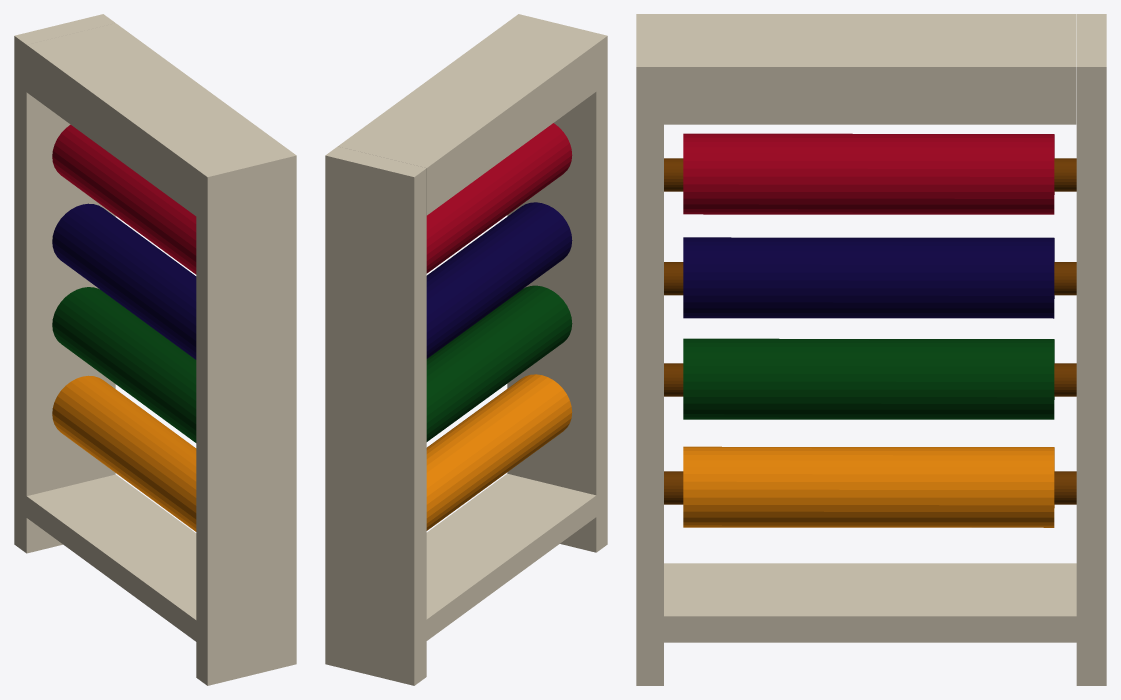
File: fabricshelf.gltf
3 renders of one model, left to right at view 1: azimuth 30°, elevation 25°; view 2: azimuth 150°, elevation 25°; view 3: azimuth 270°, elevation 25°, orthographic. The views are drawn at different scales.
Visible parts, largest first — view 1: Cube, Cylinder.005, Cylinder.010, Cylinder, Cylinder.013; view 2: Cube, Cylinder.010, Cylinder.005, Cylinder, Cylinder.013; view 3: Cube, Cylinder.010, Cylinder.013, Cylinder, Cylinder.005, Cylinder.002, Cylinder.003, Cylinder.008, Cylinder.012.
Boxes of the visible parts, x1=… form: Cube: x1=14, y1=14, x2=296, y2=685; Cylinder.005: x1=52, y1=375, x2=196, y2=531; Cylinder.010: x1=52, y1=203, x2=196, y2=359; Cylinder: x1=52, y1=287, x2=196, y2=442; Cylinder.013: x1=52, y1=124, x2=196, y2=274; Cube: x1=325, y1=14, x2=607, y2=685; Cylinder.010: x1=426, y1=202, x2=572, y2=358; Cylinder.005: x1=426, y1=374, x2=572, y2=530; Cylinder: x1=426, y1=285, x2=572, y2=441; Cylinder.013: x1=426, y1=123, x2=572, y2=273; Cube: x1=636, y1=14, x2=1106, y2=685; Cylinder.010: x1=683, y1=237, x2=1054, y2=318; Cylinder.013: x1=683, y1=133, x2=1054, y2=214; Cylinder: x1=683, y1=338, x2=1054, y2=419; Cylinder.005: x1=683, y1=446, x2=1054, y2=527; Cylinder.002: x1=1054, y1=363, x2=1076, y2=396; Cylinder.003: x1=1054, y1=471, x2=1076, y2=504; Cylinder.008: x1=1054, y1=262, x2=1076, y2=295; Cylinder.012: x1=1054, y1=158, x2=1076, y2=191.
Bounding box in the file's own units: 5.19 × 28.3 × 19.49.
